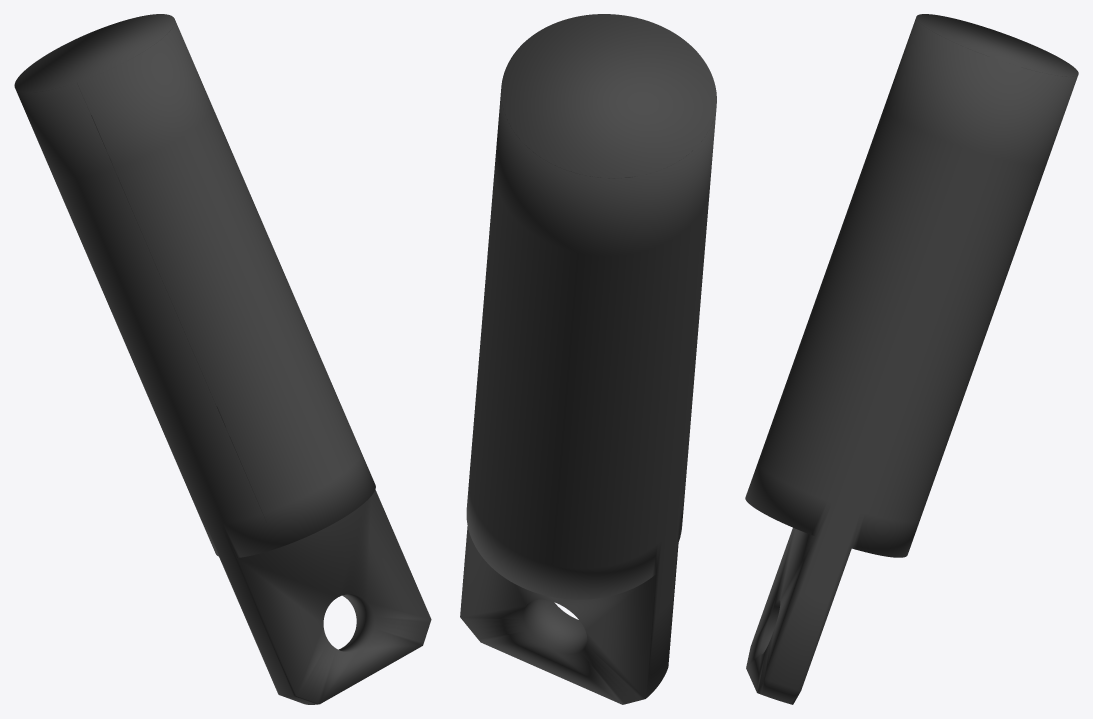
Rendered from chwytak5_L.obj.
3 renders of one model, left to right at view 1: azimuth 30°, elevation 25°; view 2: azimuth 150°, elevation 25°; view 3: azimuth 270°, elevation 25°, orthographic. The views are drawn at different scales.
Parts seen in each view (by area): view 1: suwak_L; view 2: suwak_L; view 3: suwak_L.
Boxes of the visible parts, x1,y1,x2,y2 form: suwak_L: (14,14,431,704); suwak_L: (460,14,716,704); suwak_L: (745,14,1078,704).
Bounding box in the file's own units: 0.4691 × 0.9554 × 0.4658.
Materials: 1 (1 with a texture image).
